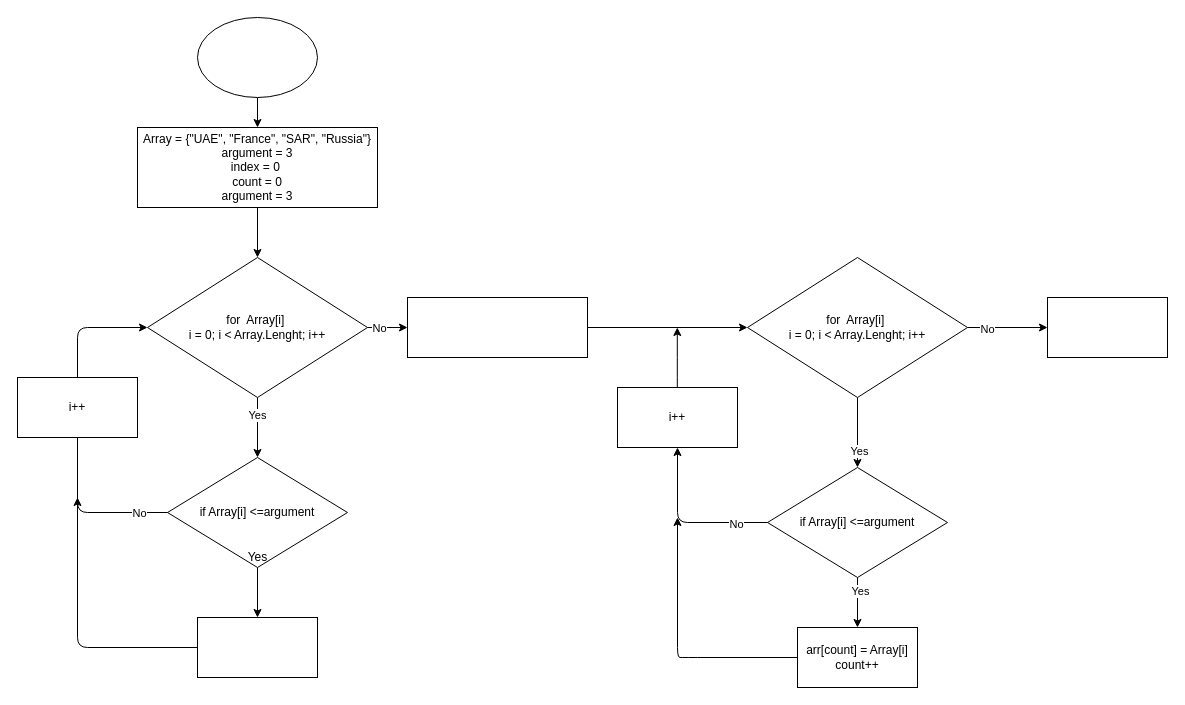
Some shapes in this 1185 by 705 pixel diagram are drawn without their labels. Here are the shapes that lost their labels. From the top down, the box of each, then its label:
(196, 16, 318, 98): Start
(406, 296, 588, 358): string [] arr = new string[index]
(1046, 296, 1168, 358): return arr
(196, 616, 318, 678): index++
